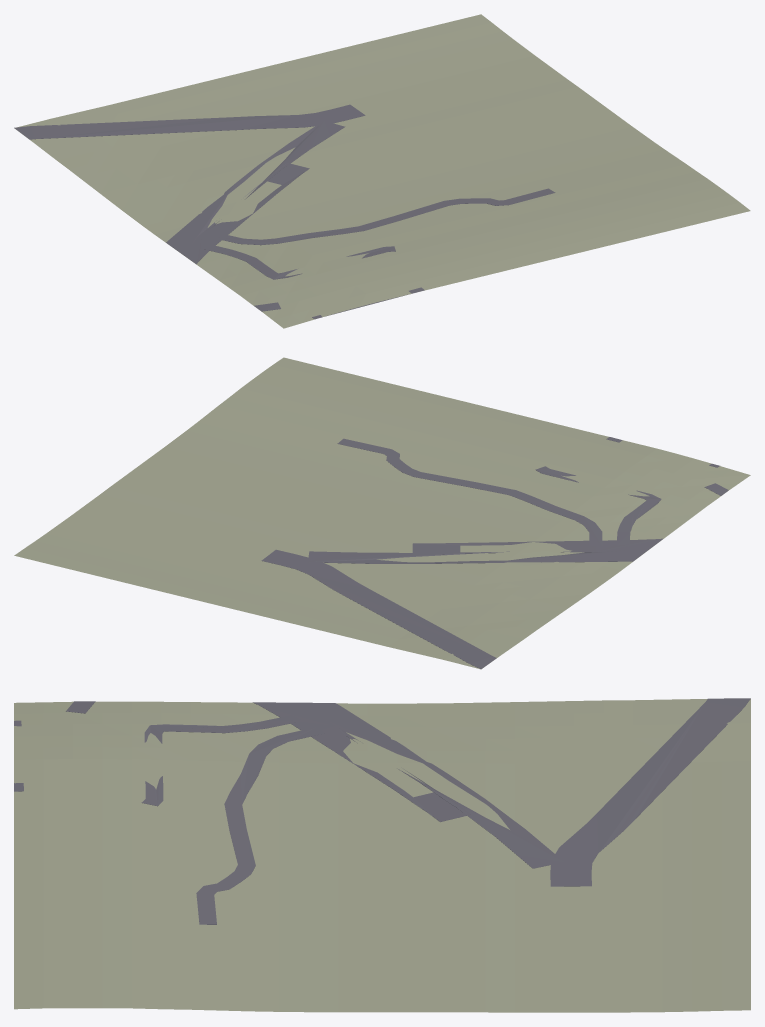
Rendered from chunk_11_0.glb.
3 renders of one model, top to bottom at view 1: azimuth 30°, elevation 25°; view 2: azimuth 150°, elevation 25°; view 3: azimuth 270°, elevation 25°, orthographic. The views are drawn at different scales.
Visible parts, largest first — view 1: geometry_0, geometry_1, geometry_3, geometry_5, geometry_2, geometry_6; view 2: geometry_0, geometry_1, geometry_3, geometry_5, geometry_2, geometry_6; view 3: geometry_0, geometry_1, geometry_3, geometry_5, geometry_2, geometry_6.
Part boxes in pixels (x1=…): geometry_0: x1=16, y1=14, x2=750, y2=328; geometry_1: x1=14, y1=104, x2=365, y2=139; geometry_3: x1=166, y1=121, x2=345, y2=253; geometry_5: x1=212, y1=188, x2=555, y2=245; geometry_2: x1=182, y1=163, x2=309, y2=264; geometry_6: x1=198, y1=243, x2=395, y2=279; geometry_0: x1=14, y1=357, x2=750, y2=669; geometry_1: x1=261, y1=549, x2=496, y2=669; geometry_3: x1=308, y1=550, x2=646, y2=563; geometry_5: x1=337, y1=438, x2=602, y2=546; geometry_2: x1=412, y1=538, x2=663, y2=554; geometry_6: x1=535, y1=466, x2=661, y2=546; geometry_0: x1=14, y1=699, x2=750, y2=1012; geometry_1: x1=550, y1=698, x2=750, y2=886; geometry_3: x1=293, y1=702, x2=563, y2=868; geometry_5: x1=196, y1=727, x2=325, y2=924; geometry_2: x1=253, y1=702, x2=470, y2=821; geometry_6: x1=141, y1=714, x2=303, y2=806.
Size of the model in its own units: 250 by 2.6 by 250.
